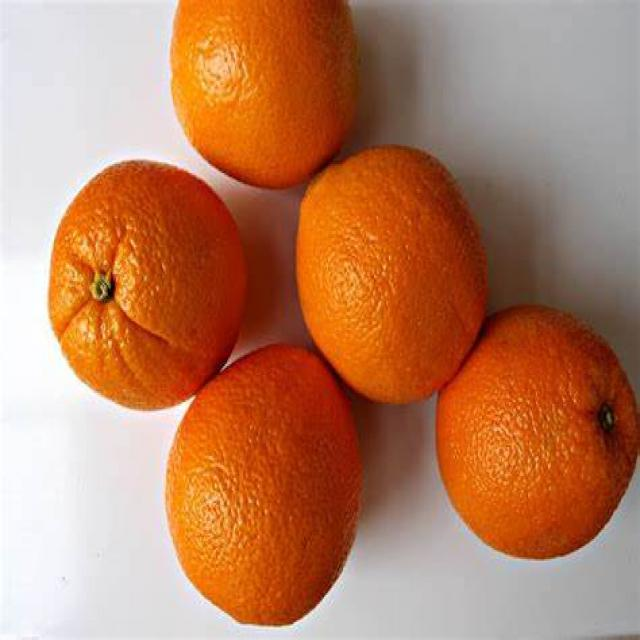Orange: (165, 344, 367, 624), (434, 301, 640, 562), (46, 159, 248, 410), (299, 143, 493, 403), (172, 0, 368, 180)
